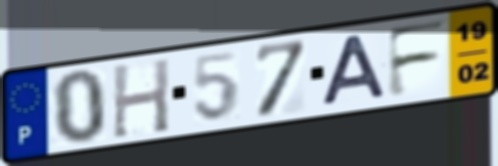0: (46, 68, 111, 146)
5: (192, 50, 243, 124)
7: (253, 36, 308, 120)
A: (319, 32, 390, 109)
F: (384, 17, 451, 101)
H: (110, 56, 173, 141)
